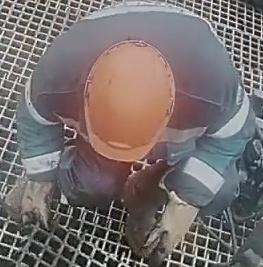gloves: (143, 190, 202, 255), (21, 173, 57, 231)
helmet: (83, 38, 178, 163)
vest: (23, 3, 249, 156)
